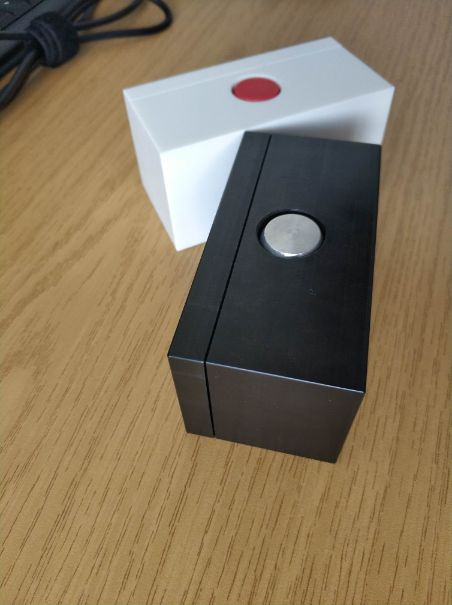black+black+silver: (163, 126, 386, 469)
white+white+red: (117, 33, 399, 252)
